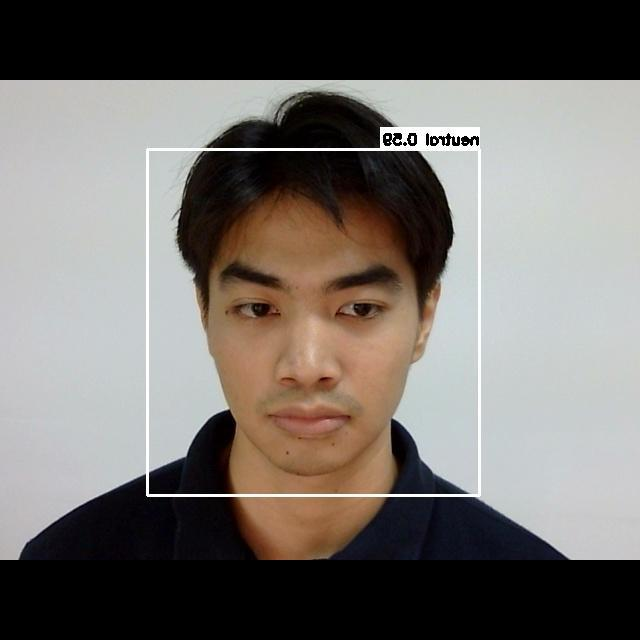Natural: (206, 263, 419, 454)
